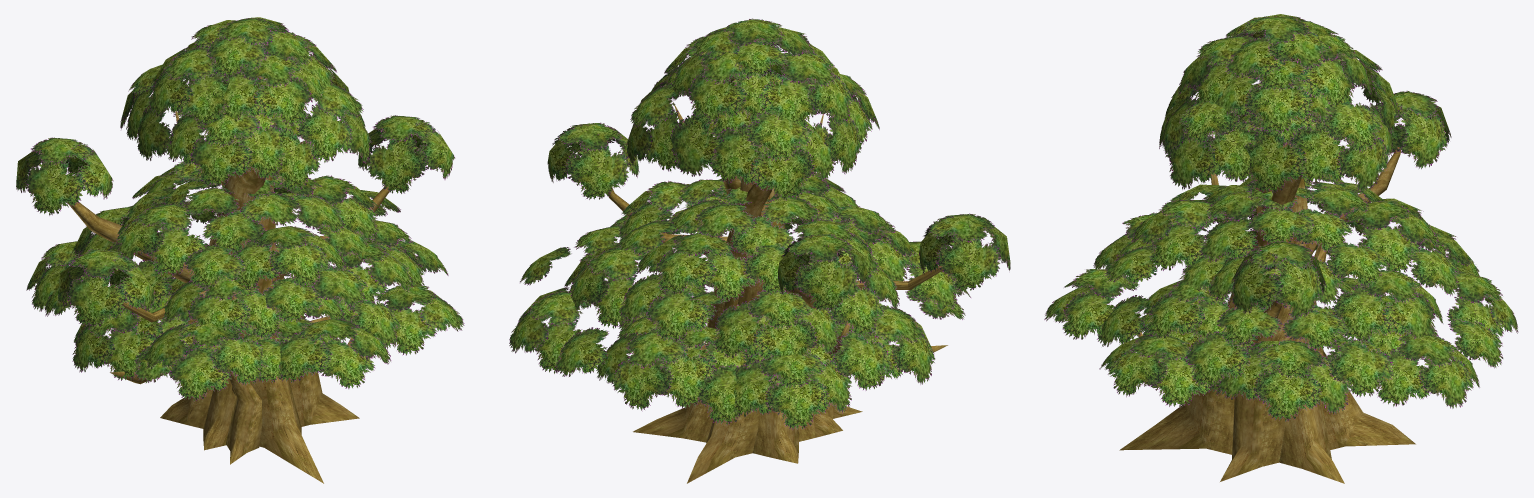
File: n_stree03.glb
3 views of the same model, side by side, from view 1: azimuth 30°, elevation 25°; view 2: azimuth 150°, elevation 25°; view 3: azimuth 270°, elevation 25° (orthographic). The views are drawn at different scales.
Visible parts, largest first — view 1: n_stree03; view 2: n_stree03; view 3: n_stree03.
Part boxes in pixels (x1,y1,x2,y2): n_stree03: [16, 17, 464, 483]; n_stree03: [509, 18, 1010, 483]; n_stree03: [1044, 14, 1518, 483].
Bounding box in the file's own units: 9.8 × 8.91 × 8.95.
Materials: 2 (2 with a texture image).
